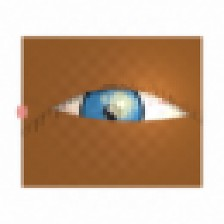corneal_ulcer: (99, 88, 142, 122)
